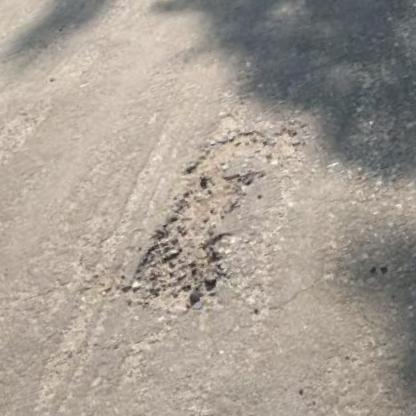pothole: (76, 118, 318, 331)
